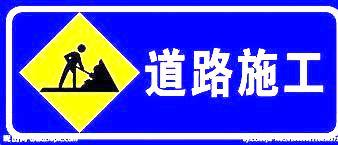sign: (6, 3, 334, 139)
